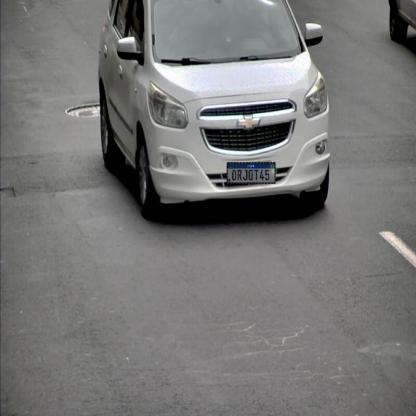PlacaM: (226, 162, 275, 184)
